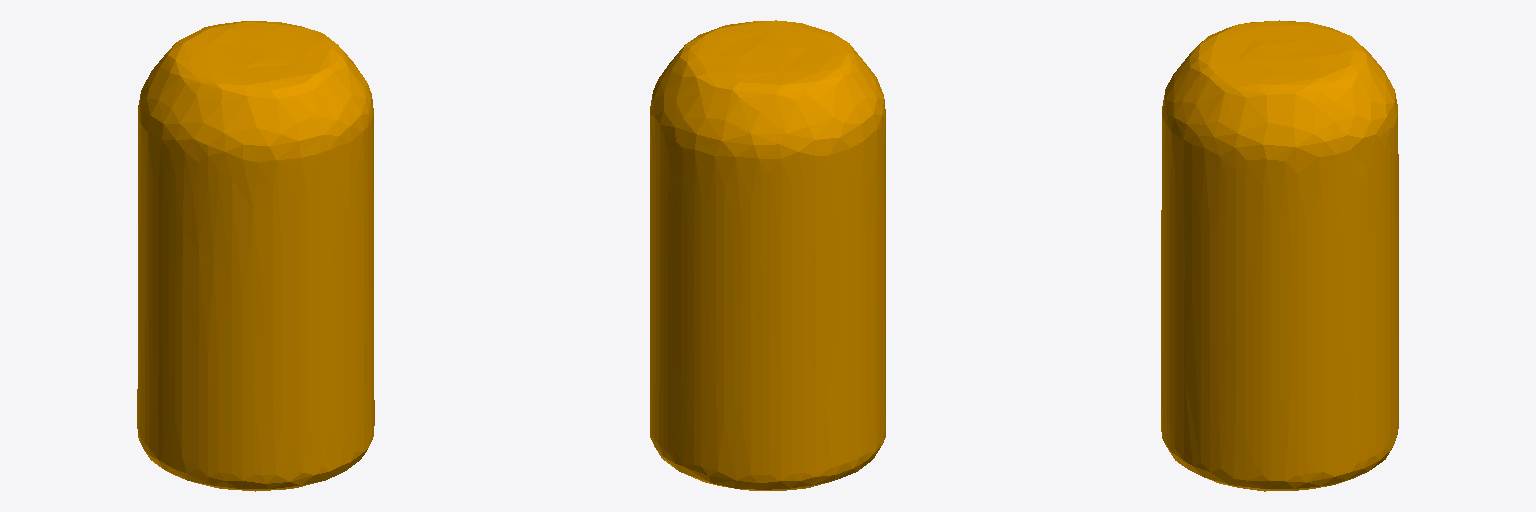
robot.urdf — can_poisson_003:
<?xml version="1.0"?>
<robot name="can_poisson_003">
  <link name="base_link">
    <contact>
      <lateral_friction value="1.0"/>
      <rolling_friction value="0.0"/>
      <contact_cfm value="0.0"/>
      <contact_erp value="1.0"/>
    </contact>
    <inertial>
      <mass value="0.979354655688"/>
      <inertia ixx="1" ixy="0" ixz="0" iyy="1" iyz="0" izz="1"/>
    </inertial>
    <visual>
      <geometry>
        <mesh filename="can_poisson_003_visual.obj"/>
      </geometry>
    </visual>
    <collision>
      <geometry>
        <mesh filename="can_poisson_003_collision.obj"/>
      </geometry>
    </collision>
  </link>
</robot>

--- Render facts (derived) ---
3 views of the same robot in one strip: view 1: azimuth 30°, elevation 25°; view 2: azimuth 150°, elevation 25°; view 3: azimuth 270°, elevation 25° (orthographic).
Model can_poisson_003 with 1 links and 0 joints (none), rooted at base_link, posed all joints at 0.
Links seen in each view (by area): view 1: base_link; view 2: base_link; view 3: base_link.
Boxes of the visible links, box(x1,y1,x2,y2) form: base_link: box(137, 21, 374, 491); base_link: box(650, 20, 885, 490); base_link: box(1161, 20, 1398, 491).
Bounding box of the posed robot: 0.07 × 0.07 × 0.13 m (x, y, z).
1 mesh visuals loaded from 1 distinct referenced files (1 OBJ).